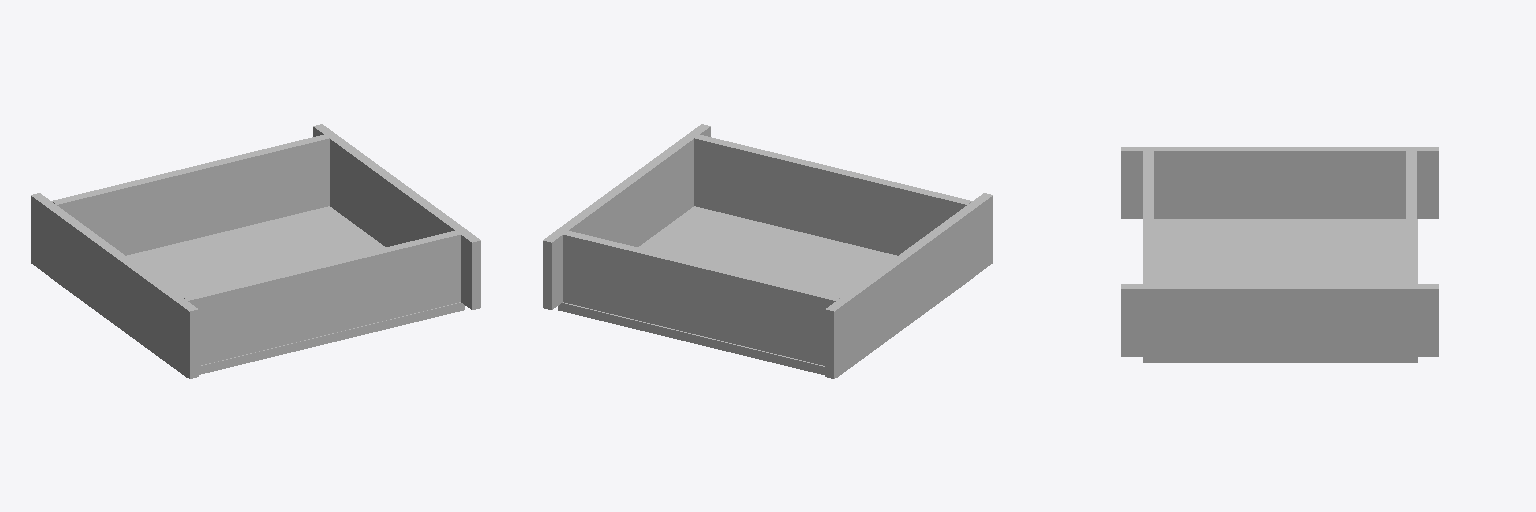
File: pool.obj
The picture shows the model from 3 angles: view 1: azimuth 30°, elevation 25°; view 2: azimuth 150°, elevation 25°; view 3: azimuth 270°, elevation 25°; orthographic projection.
Visible parts, largest first — view 1: 立方体.001, 立方体.002, 立方体, 立方体.004, 立方体.003; view 2: 立方体.002, 立方体.001, 立方体, 立方体.004, 立方体.003; view 3: 立方体.003, 立方体.004, 立方体, 立方体.001, 立方体.002.
Part boxes in pixels (left/top/right/bottom): 立方体.001: left=183, top=230, right=461, bottom=365; 立方体.002: left=52, top=134, right=331, bottom=255; 立方体: left=50, top=206, right=464, bottom=377; 立方体.004: left=31, top=193, right=198, bottom=378; 立方体.003: left=313, top=124, right=480, bottom=309; 立方体.002: left=563, top=231, right=840, bottom=365; 立方体.001: left=692, top=134, right=971, bottom=255; 立方体: left=558, top=206, right=973, bottom=377; 立方体.004: left=825, top=193, right=992, bottom=378; 立方体.003: left=543, top=124, right=710, bottom=309; 立方体.003: left=1121, top=284, right=1438, bottom=356; 立方体.004: left=1121, top=147, right=1438, bottom=218; 立方体: left=1143, top=219, right=1417, bottom=362; 立方体.001: left=1143, top=151, right=1153, bottom=285; 立方体.002: left=1406, top=151, right=1416, bottom=285.
Size of the model in its own units: 21.12 by 5.28 by 19.94.